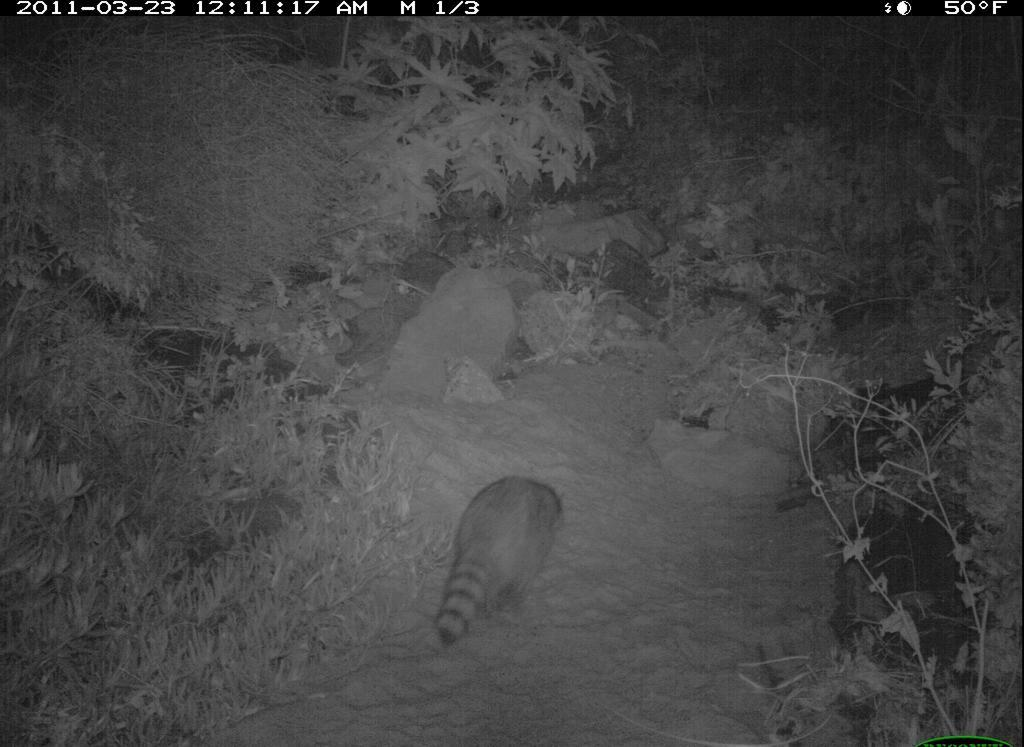raccoon: (425, 445, 578, 660)
